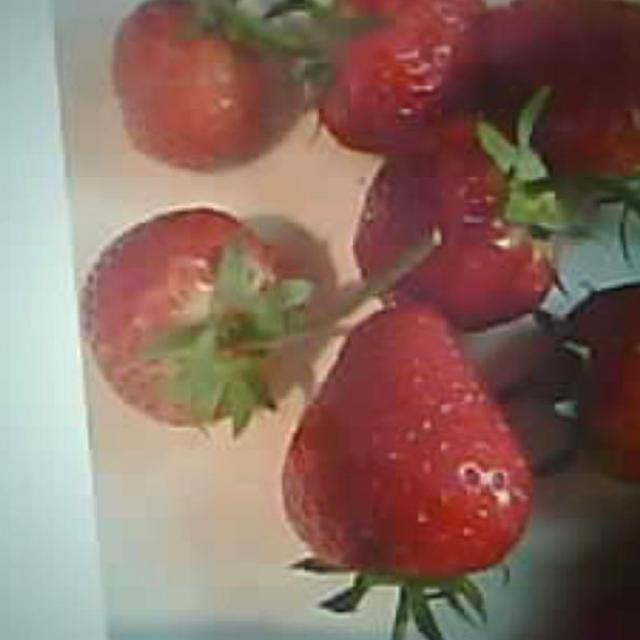Healthy Fruit: (273, 298, 535, 594), (70, 203, 315, 432), (335, 108, 561, 328)
